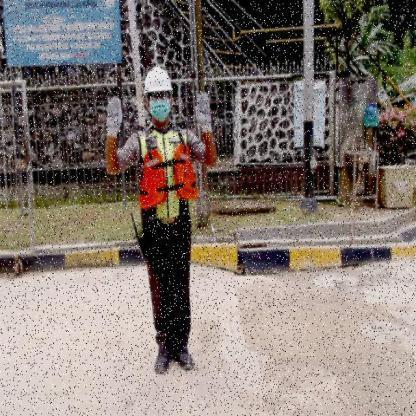boots: (152, 348, 172, 377), (173, 350, 195, 374)
gloves: (193, 90, 214, 134), (105, 94, 123, 140)
goggles: (150, 92, 171, 100)
helmet: (143, 66, 174, 93)
mask: (149, 100, 171, 122)
vest: (137, 142, 200, 212)
